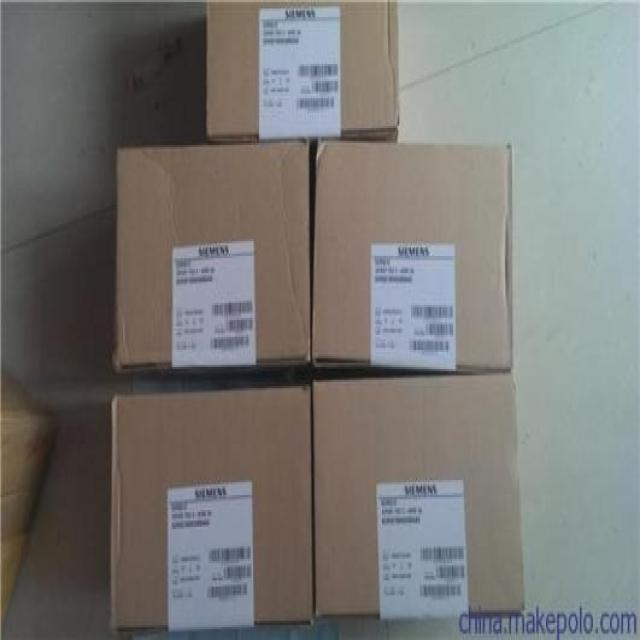box: (313, 373, 527, 619), (112, 386, 312, 634), (312, 141, 512, 373), (115, 139, 310, 371), (206, 2, 398, 139)
